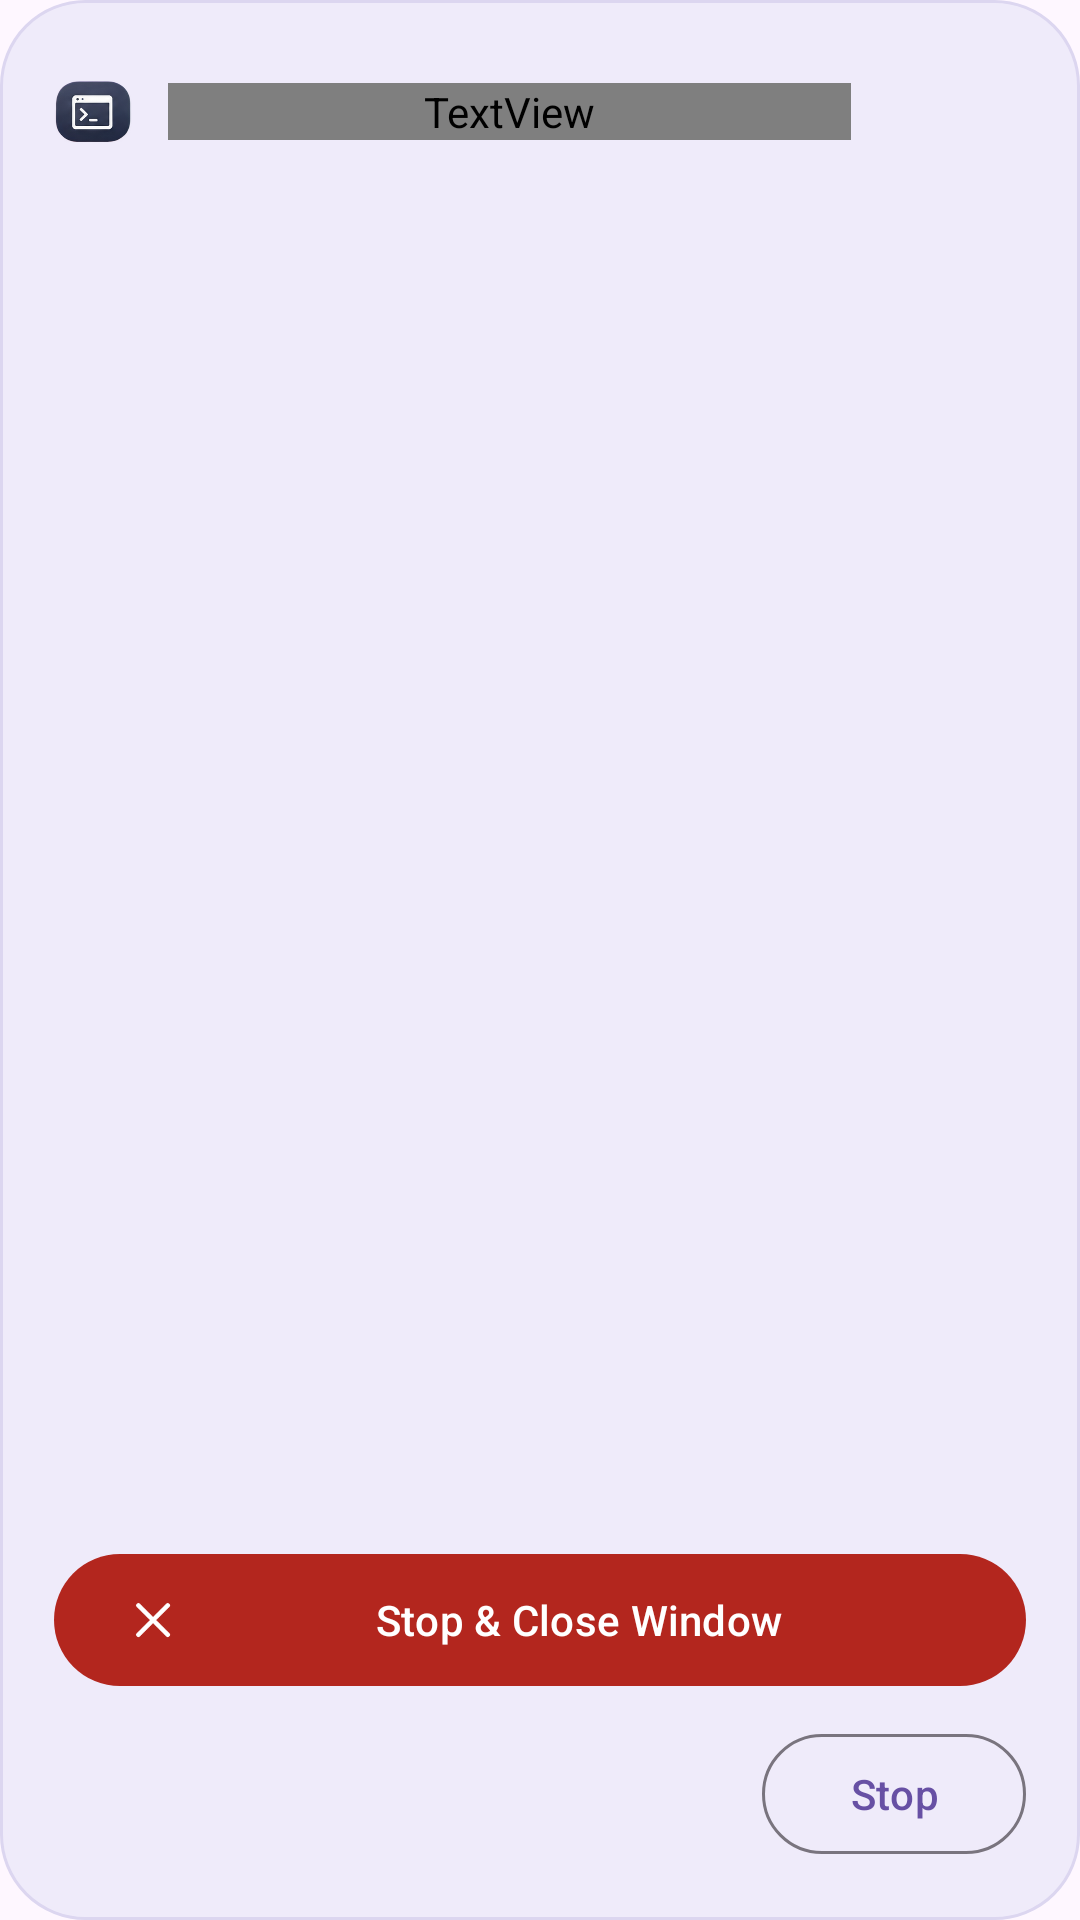

Screen size 1080w x 1920h. Icon name, then its box in pixels as (x1, y1, x2, y2):
terminal box: (56, 81, 131, 142)
